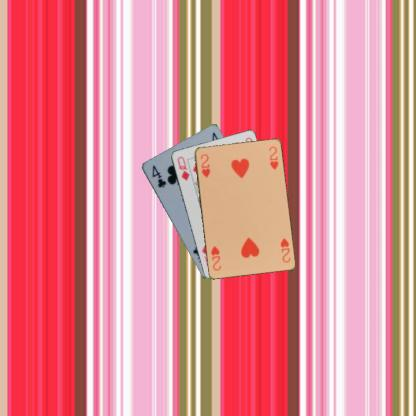2h: (277, 235, 292, 264), (198, 152, 212, 178)
4c: (149, 162, 168, 189)
Qd: (174, 154, 190, 181)
